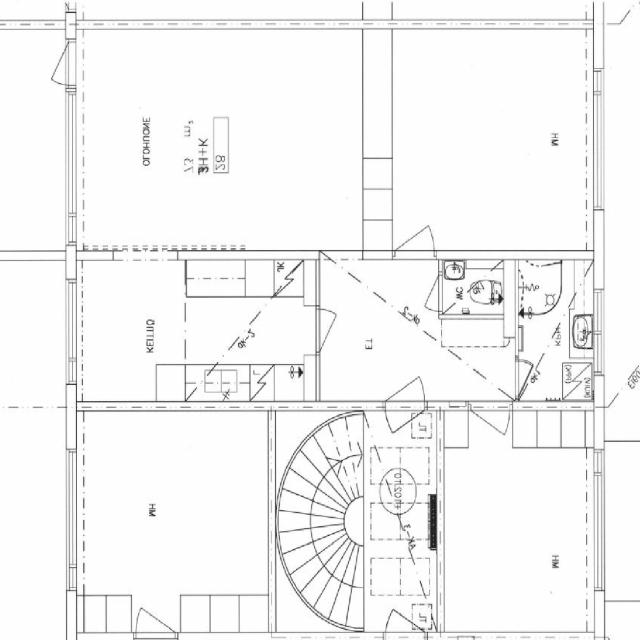door: (386, 352, 424, 411), (386, 401, 424, 459), (472, 401, 510, 459), (396, 202, 434, 260), (32, 41, 76, 85), (316, 309, 354, 351), (515, 360, 549, 399), (410, 275, 442, 311)
